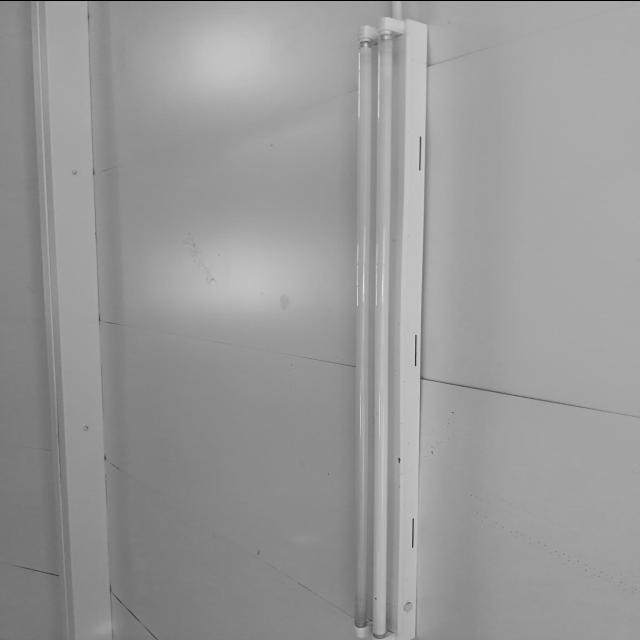light: (354, 16, 428, 639)
